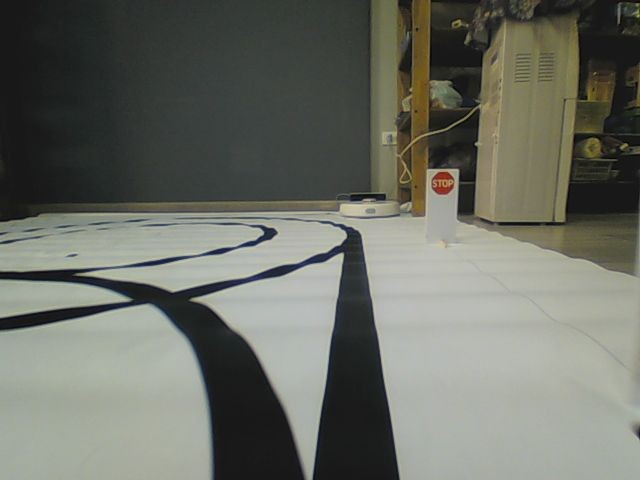Stop: (429, 170, 456, 197)
